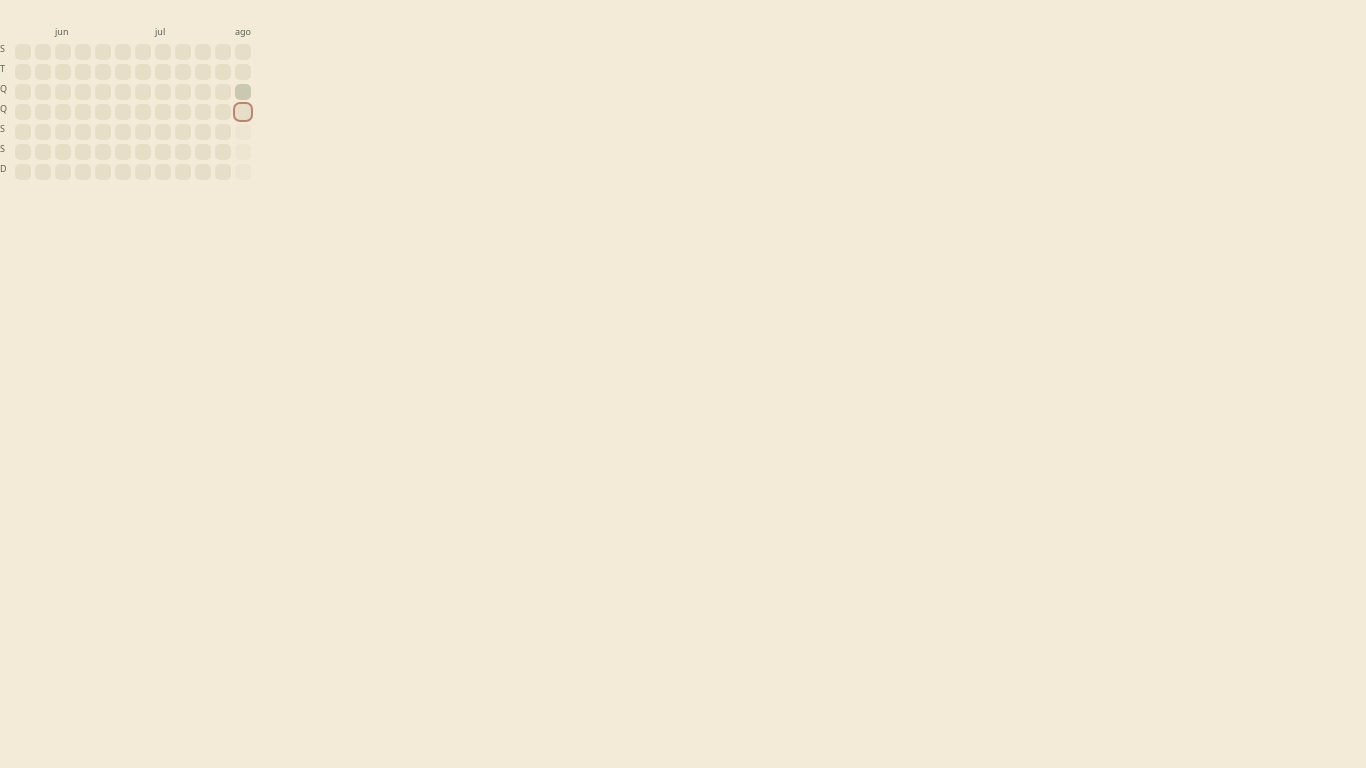
MapaCalor com falha na consulta › popover usa fallback quando os detalhes do dia não carregam
The width and height of the screenshot is (1366, 768).
Later steps or results of the test are not shown.
Click the button named "05 de ago. — 1 prática": (243, 92) [235, 84, 251, 100]
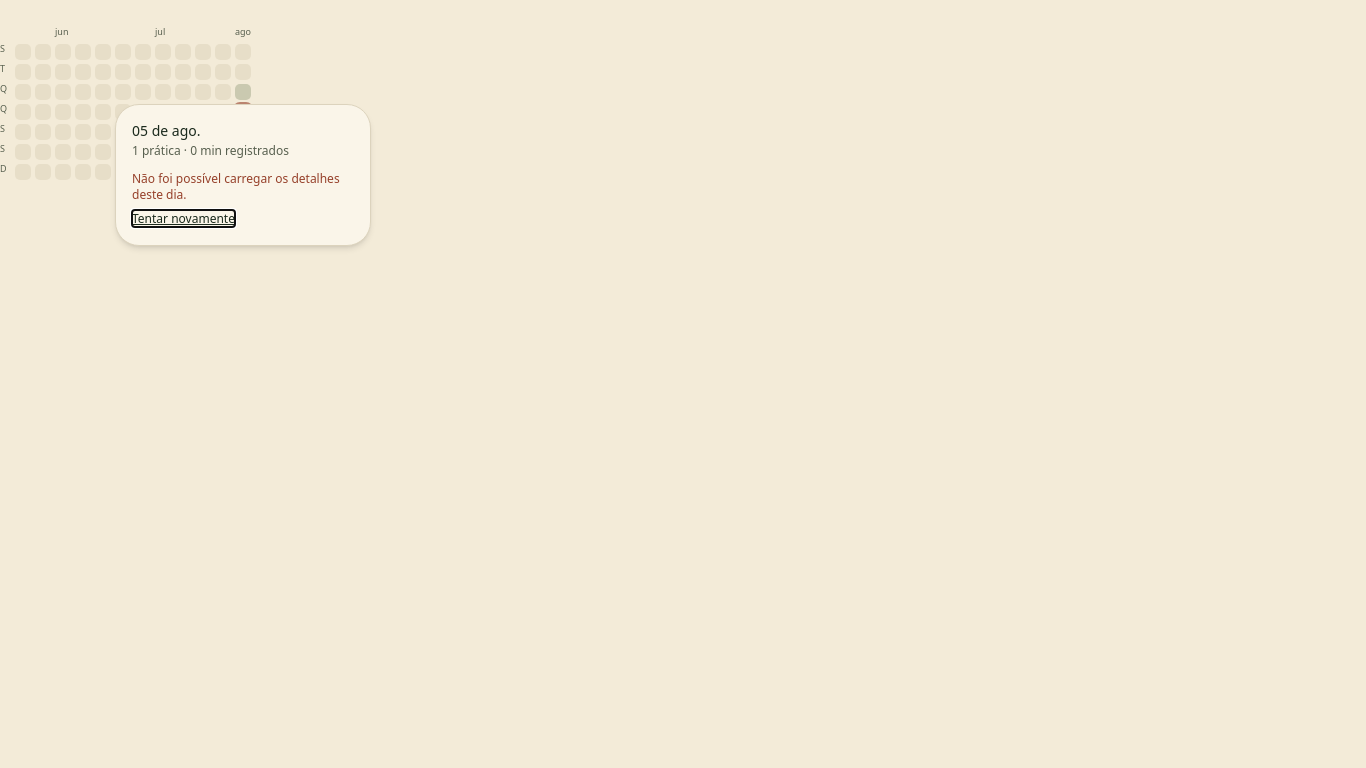
Expected: the text "1 prática · 0 min registrados" is shown, [132, 142, 289, 159]
Expected: the text "Não foi possível carregar os detalhes deste dia." is shown, [132, 171, 354, 203]
